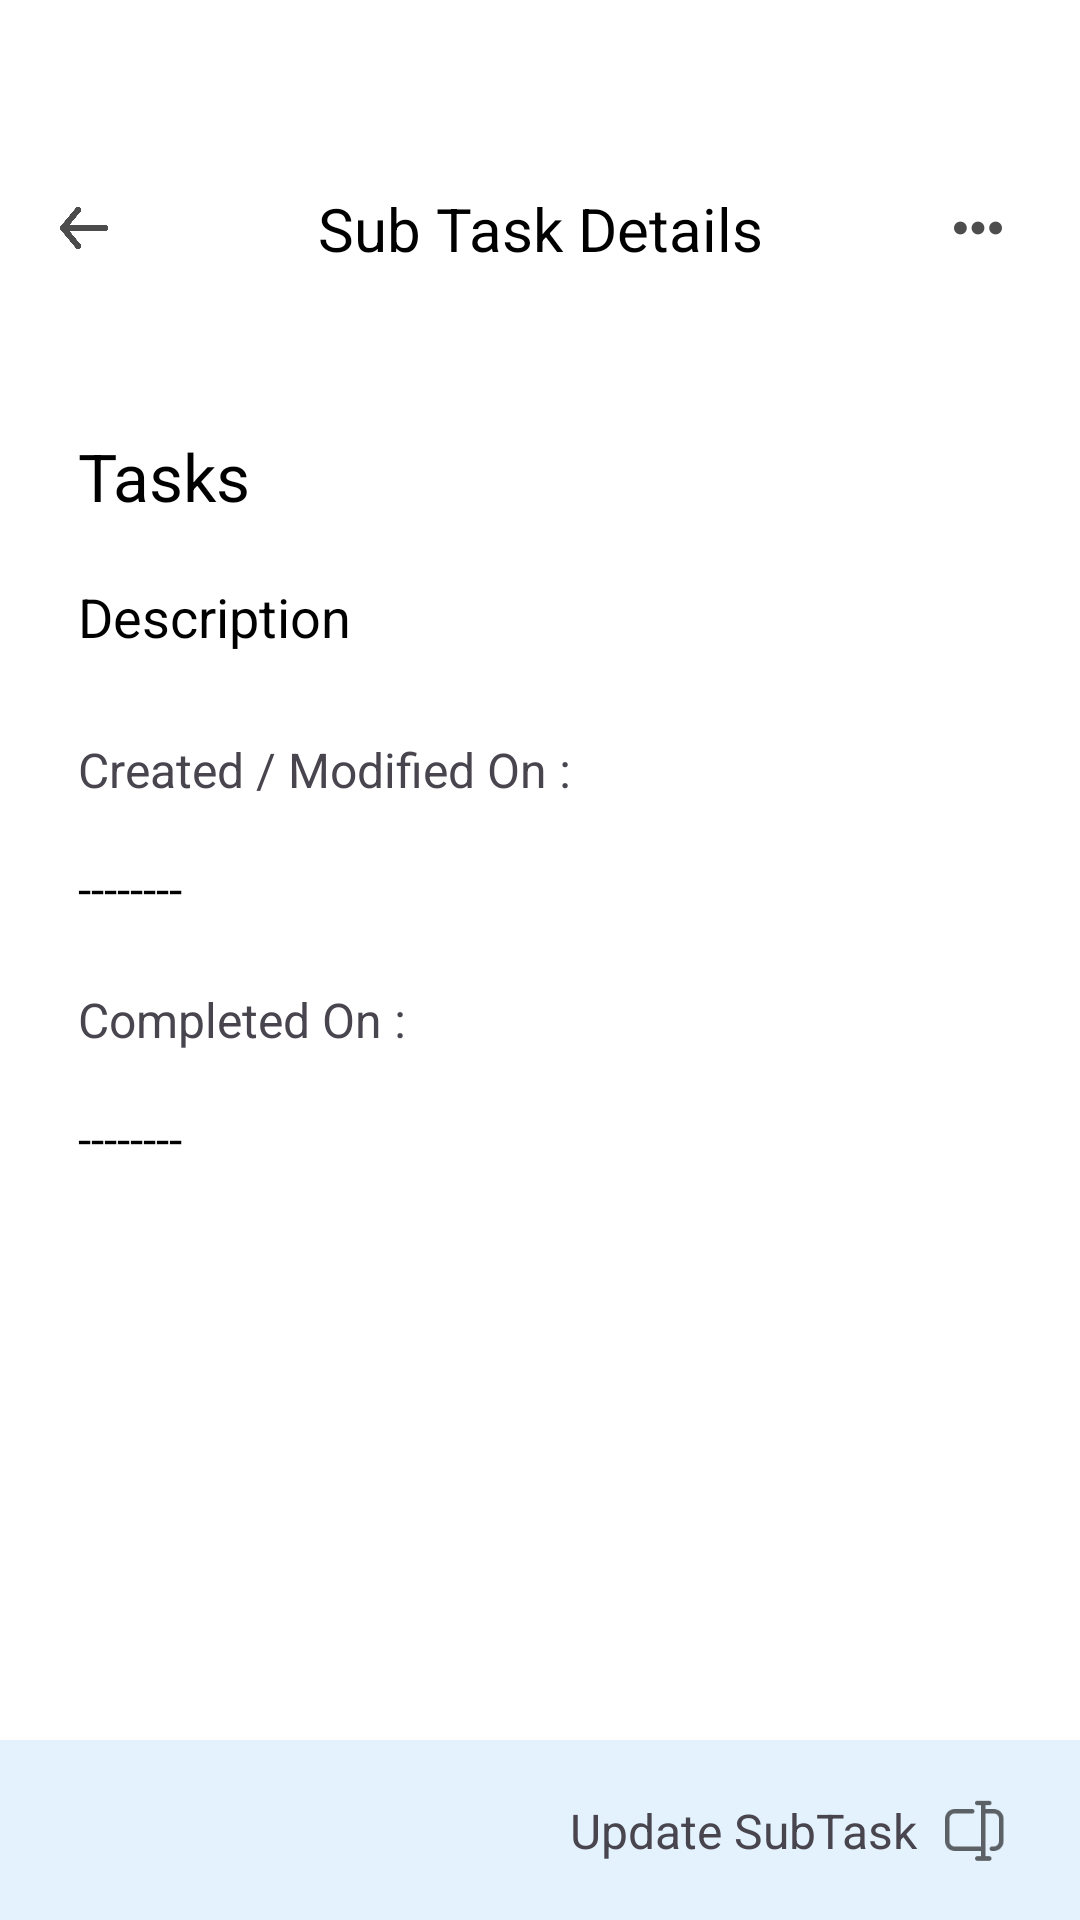

Icon click points for this 1080px x 1920px phone screenshot, format [x,y]:
back: [84,228]
options: [978,228]
